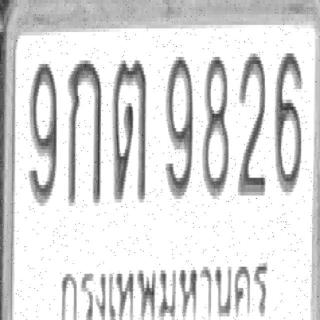A01: (66, 57, 101, 206)
A21: (112, 57, 146, 203)
N02: (237, 50, 266, 196)
N06: (274, 50, 302, 192)
N08: (202, 54, 229, 195)
N09: (27, 57, 57, 206), (165, 53, 193, 199)
P04: (56, 245, 270, 320)
